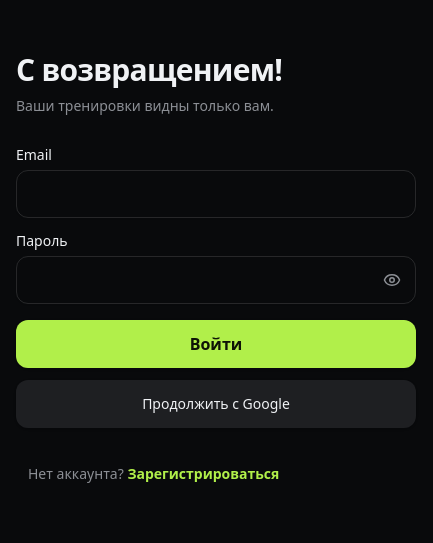
Test: shows password confirmation only in registration mode
Expected: the field labelled "Подтвердите пароль" is not shown
Click the button "Нет аккаунта? Зарегистрироваться" at {"x": 216, "y": 474}, box [16, 452, 416, 496]
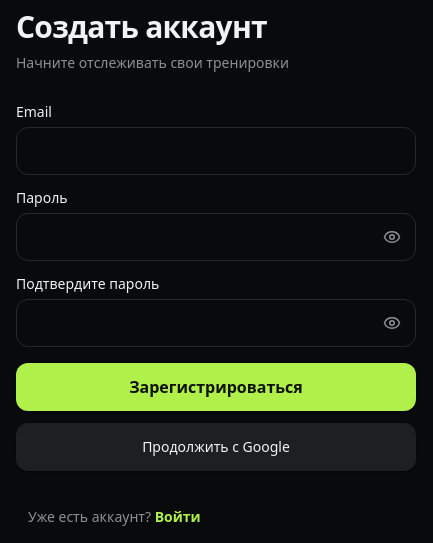
Expected: the password field labelled "Подтвердите пароль" is shown, [16, 299, 416, 347]
